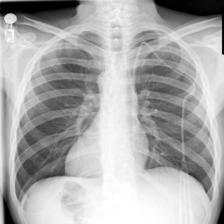normal: (9, 26, 220, 207)
